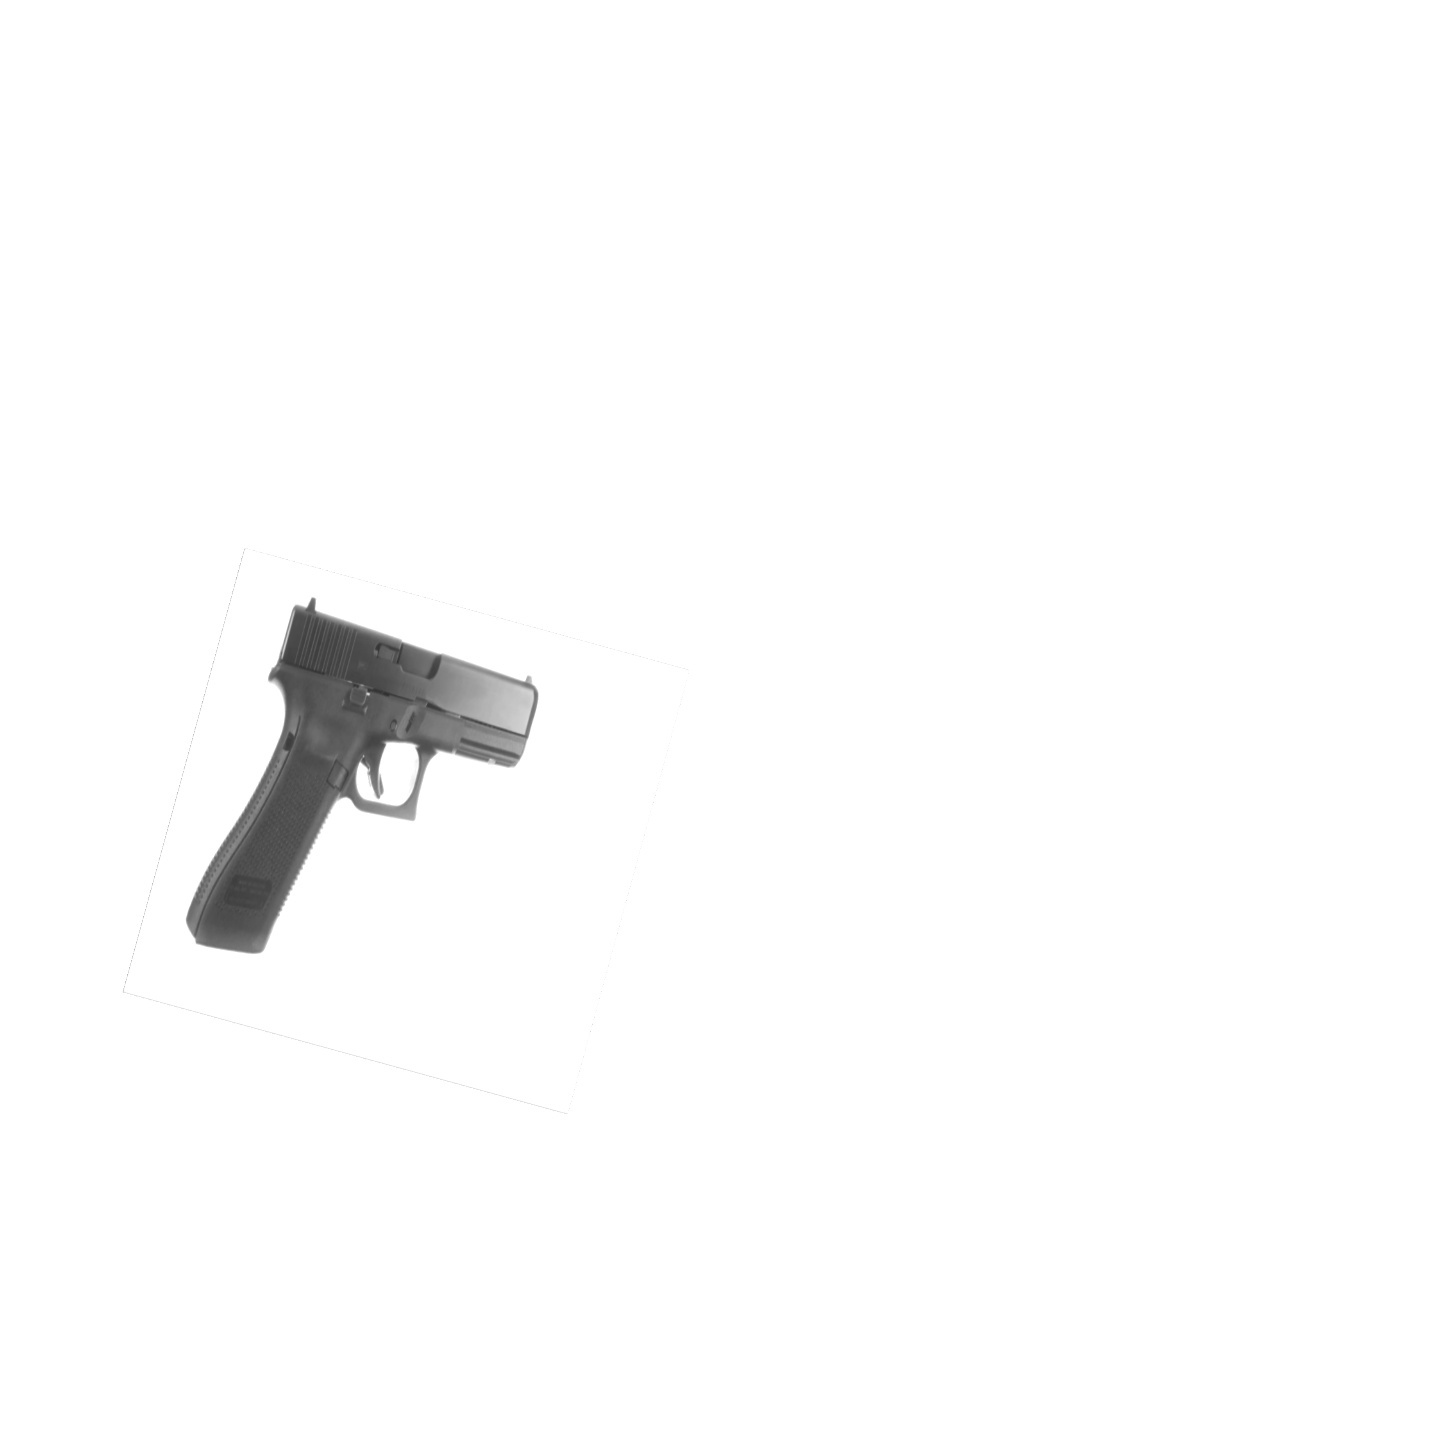gun: (186, 600, 535, 957)
